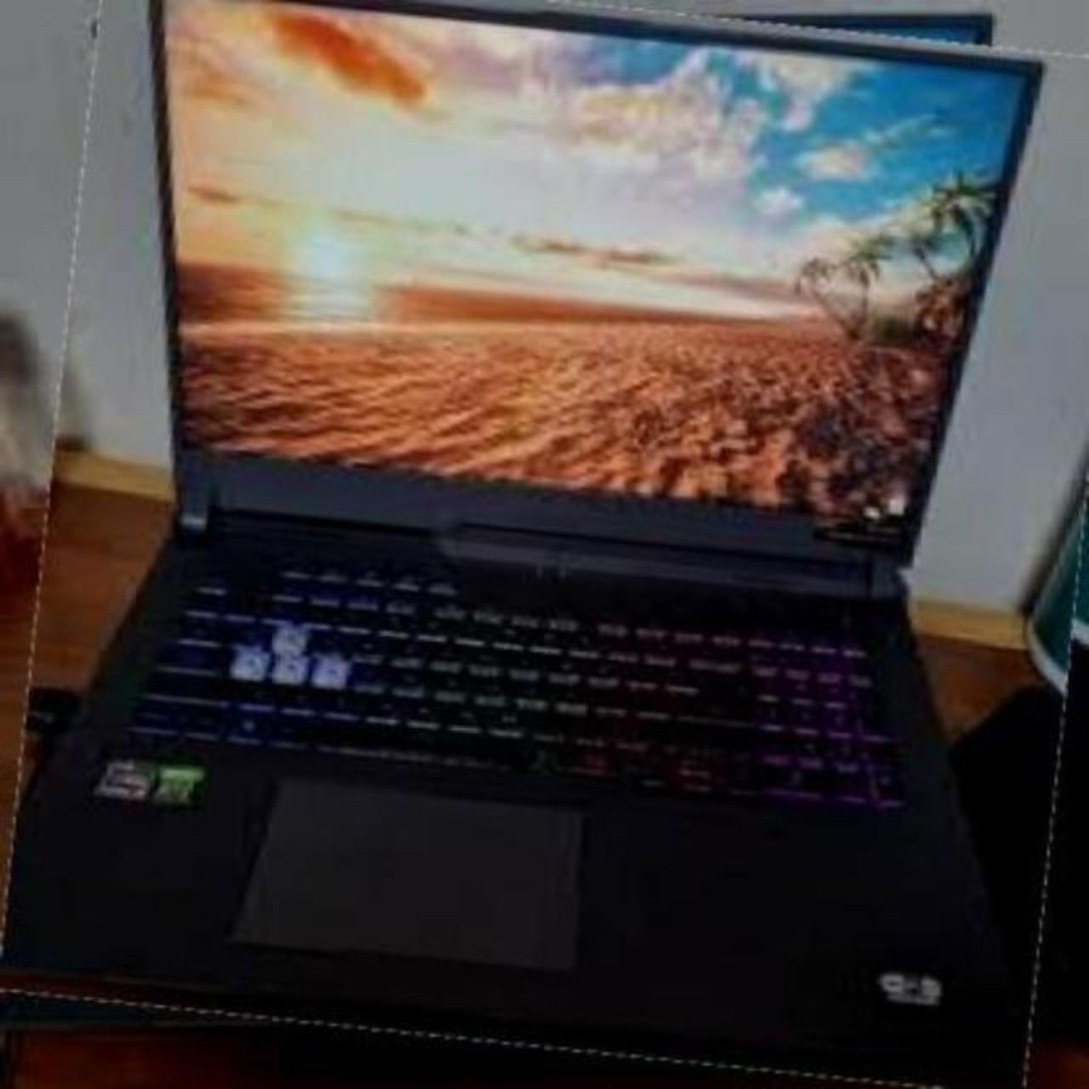laptop: (21, 1, 1088, 1068)
